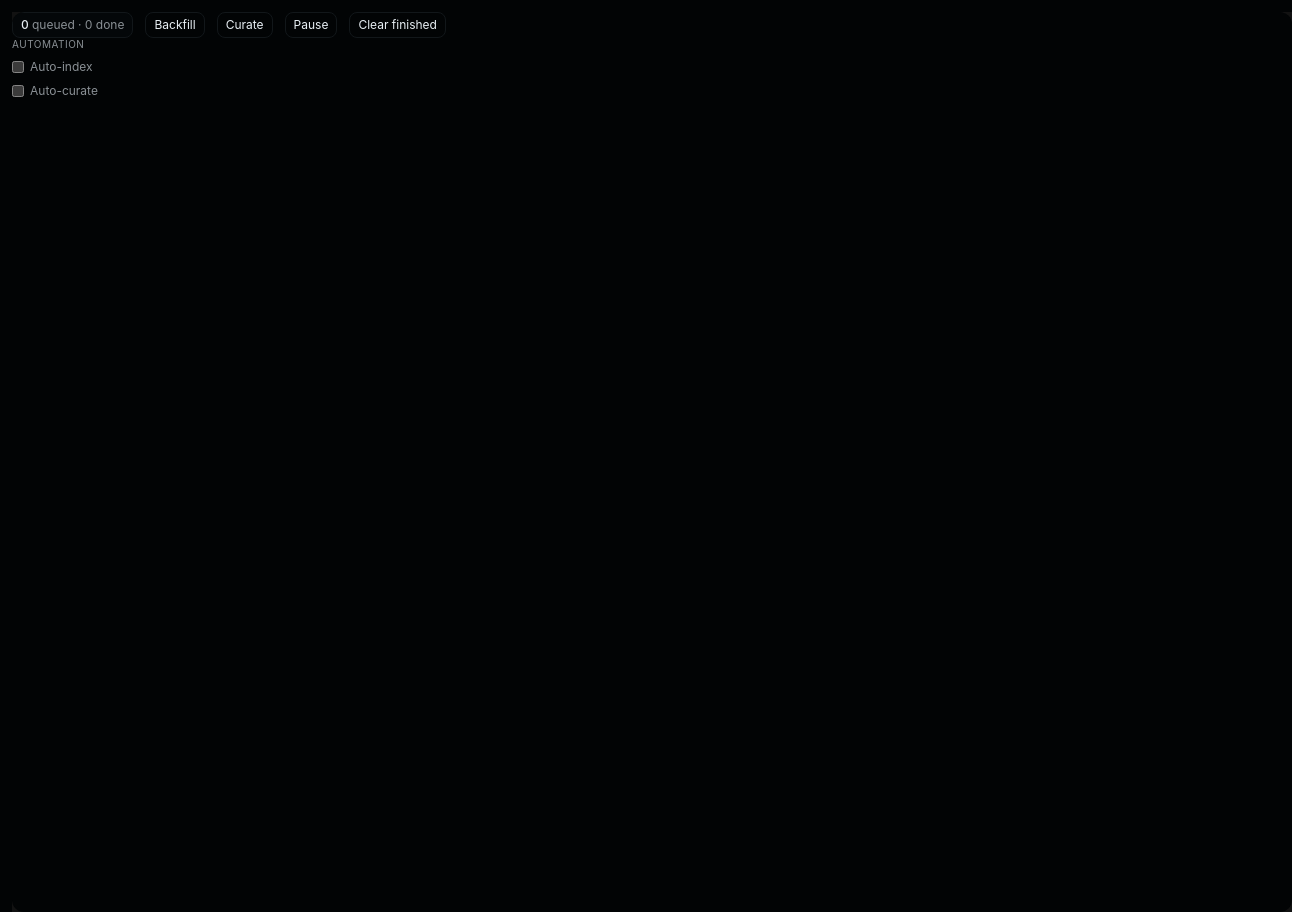
Test: BrainQueuePanel › backfills and refreshes the counts
This screenshot has width=1292, height=912.
Expected: the element with test id "queue-counts" is shown, [12,12,133,38]
Click the button "Backfill" at [175, 25], box [145,12,205,38]
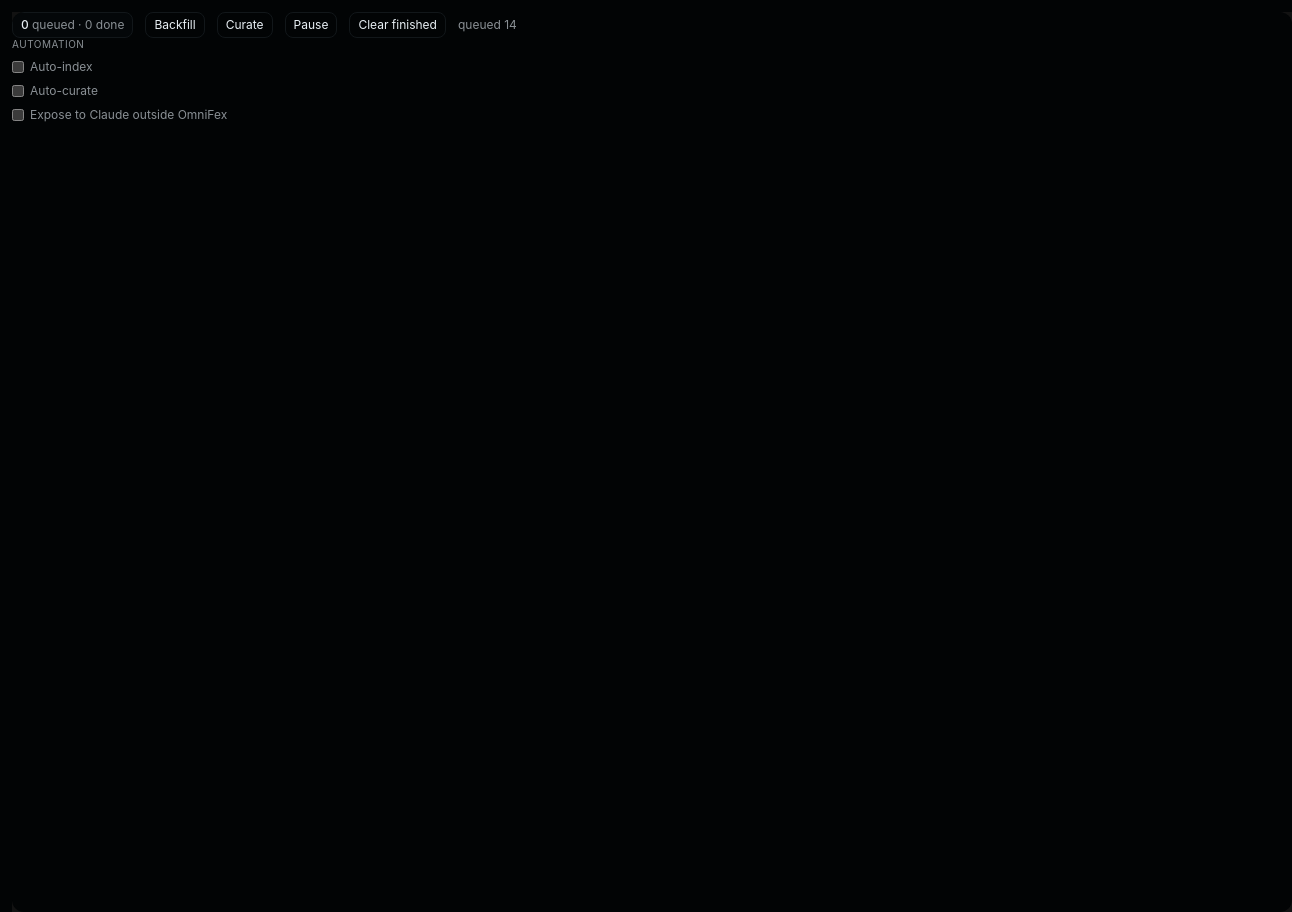
Result: the text "queued 14" is shown at [458,17,517,33]
